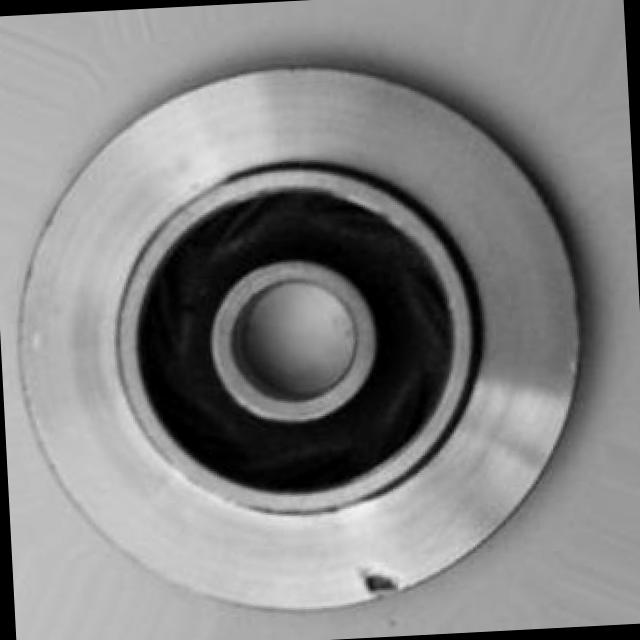Defect: (356, 560, 401, 602)
